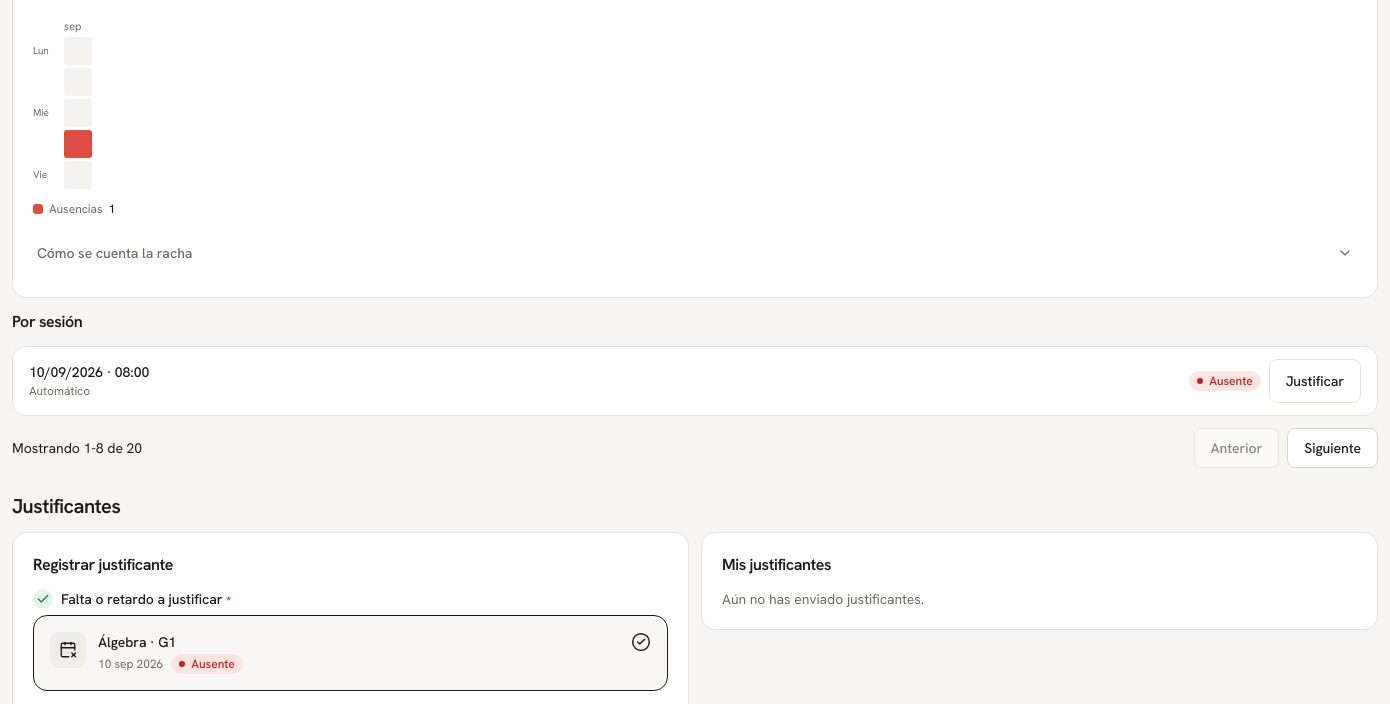
Scenario: PortalAlumno › Justificar preselecciona la sesión en el formulario
(page scrolled)
Click the button "Justificar" at (1315, 380), box 1269,358 -> 1361,402
(page scrolled)
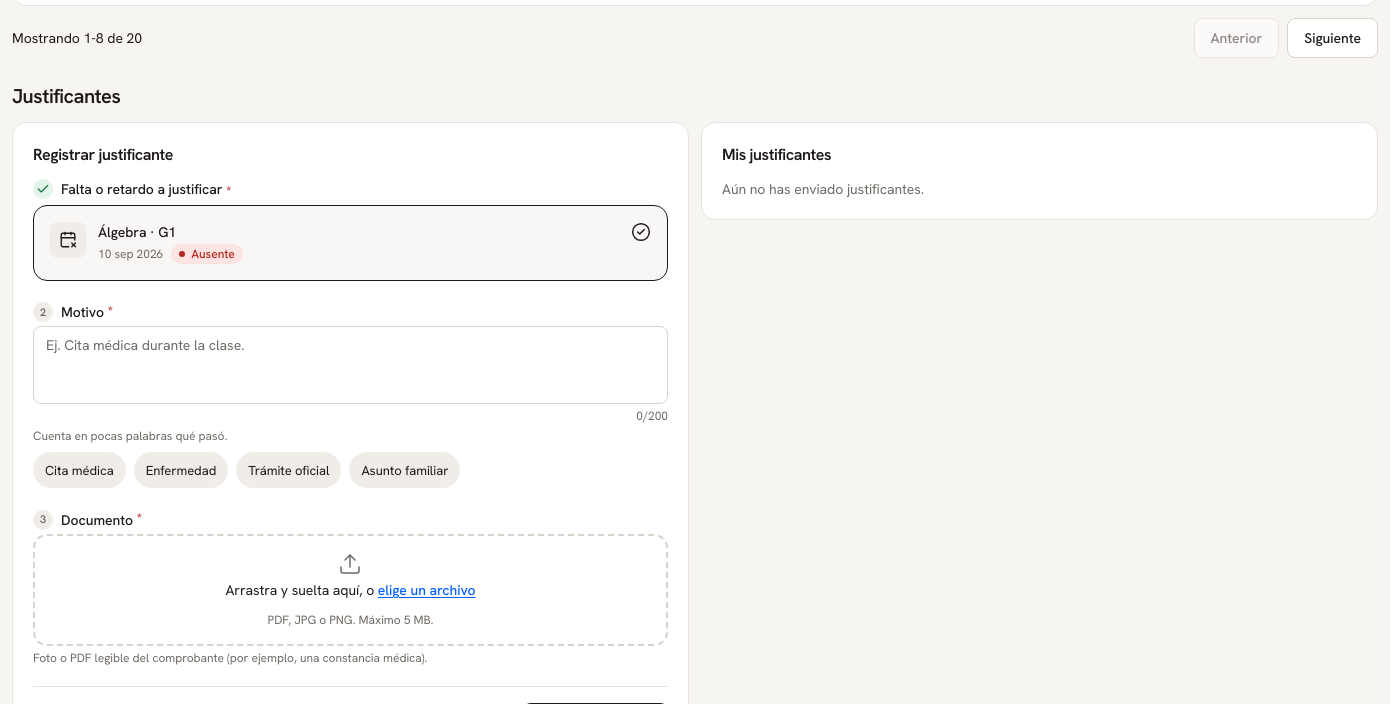
Expected: the radio button labelled "Álgebra · G1 10 sep 2026 Ausente" is checked, 50,222 -> 651,264
